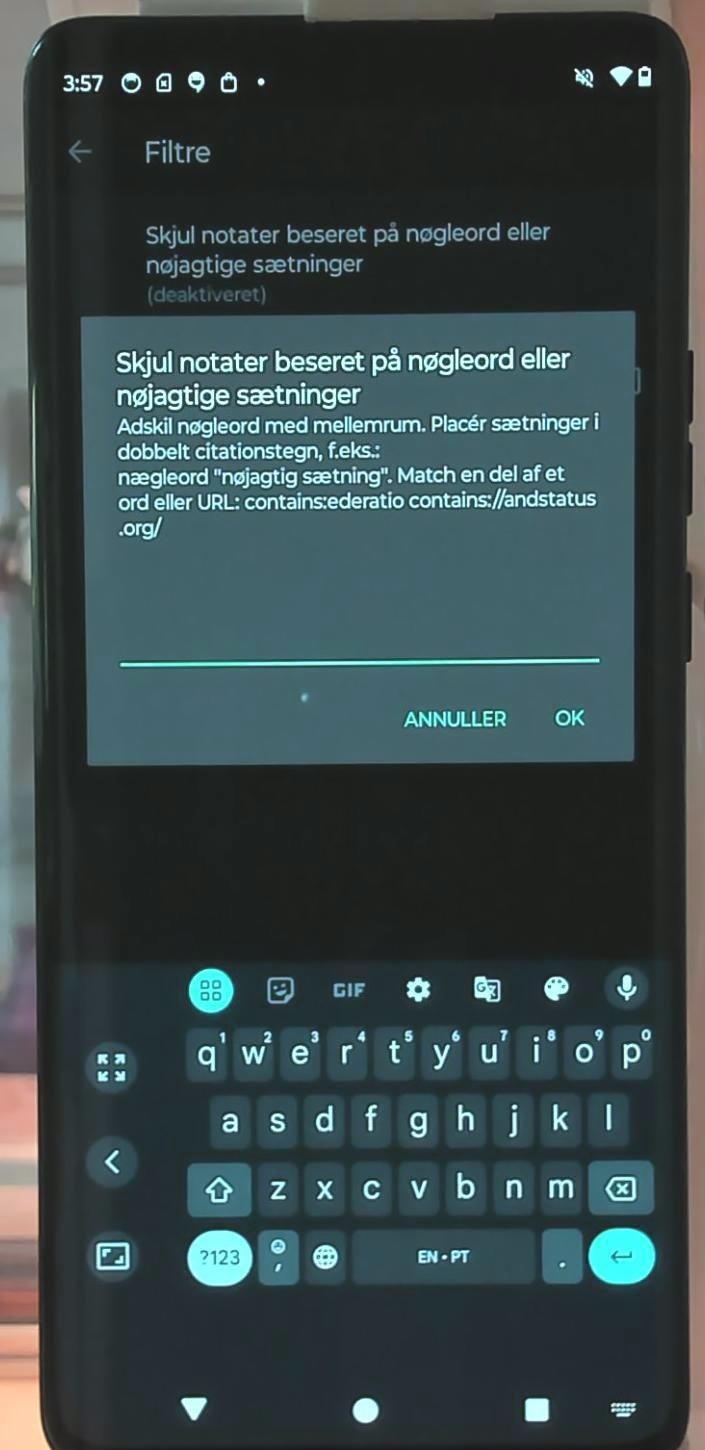CommunBotton: (77, 1128, 146, 1194), (593, 960, 667, 1020), (520, 956, 587, 1021), (80, 1032, 140, 1100), (317, 962, 383, 1023), (249, 955, 307, 1023), (80, 1221, 143, 1283), (456, 956, 513, 1022), (393, 957, 446, 1024), (184, 958, 236, 1021), (173, 1381, 218, 1444), (344, 1385, 389, 1434), (517, 1381, 556, 1434)
TextField: (109, 614, 606, 679)
TextKeyboard: (182, 1022, 665, 1296)
